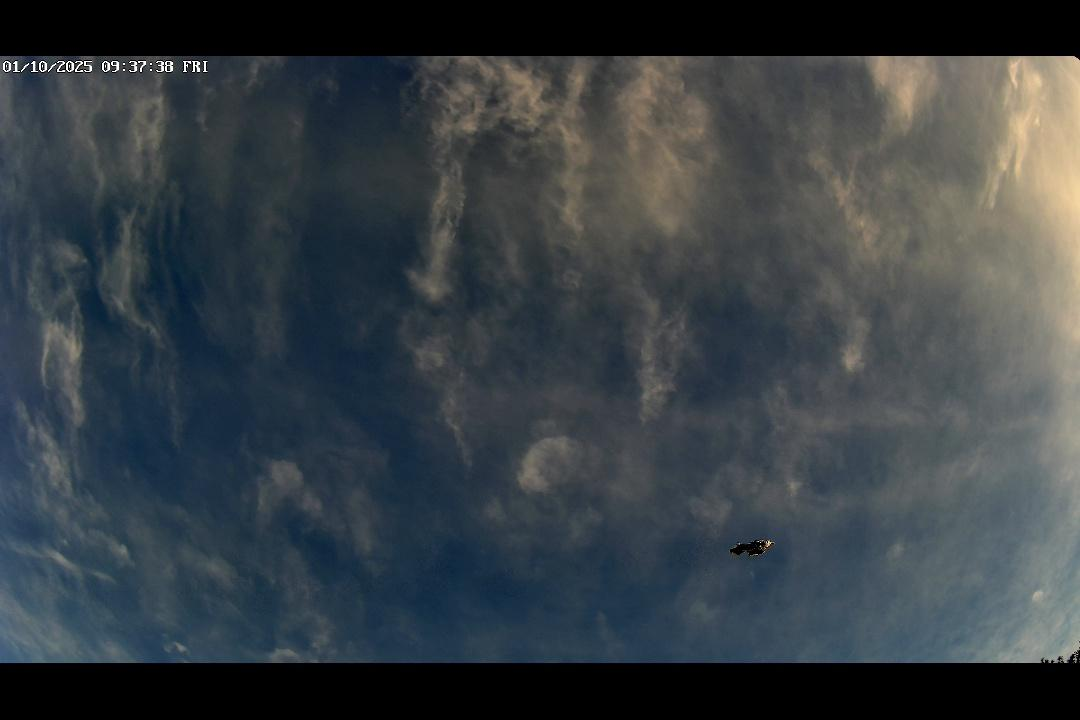WildLife: (712, 532, 788, 563)
